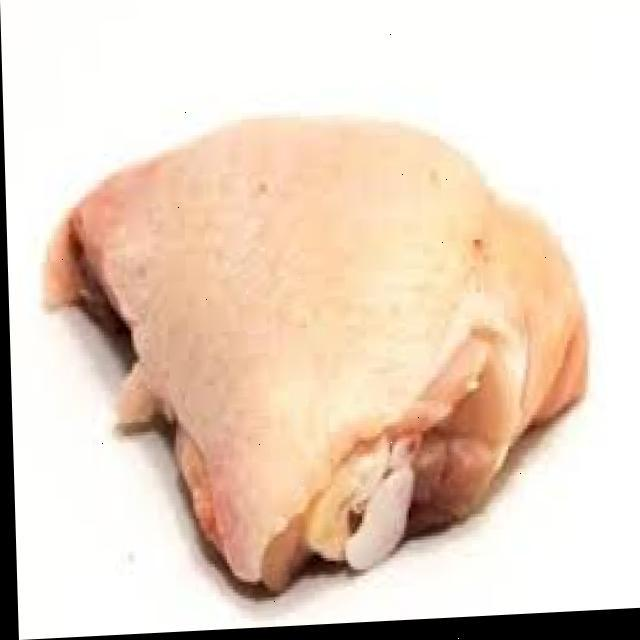thigh: (31, 81, 605, 624)
